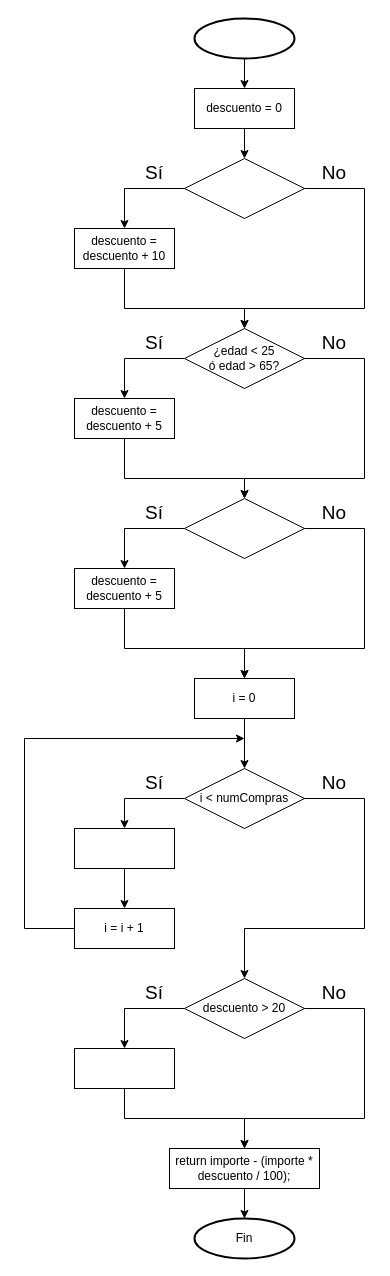
This 390x1276 diagram has some shape labels left out. Here are the shapes that lost their labels. From the top down, the box of each, then its label:
(193, 17, 295, 59): Inicio
(184, 158, 304, 218): ¿importe >= 100?
(184, 498, 304, 558): ¿es socio && importe >= 50?
(74, 828, 174, 868): descuento = descuento + 1
(74, 1048, 174, 1088): descuento = 20
